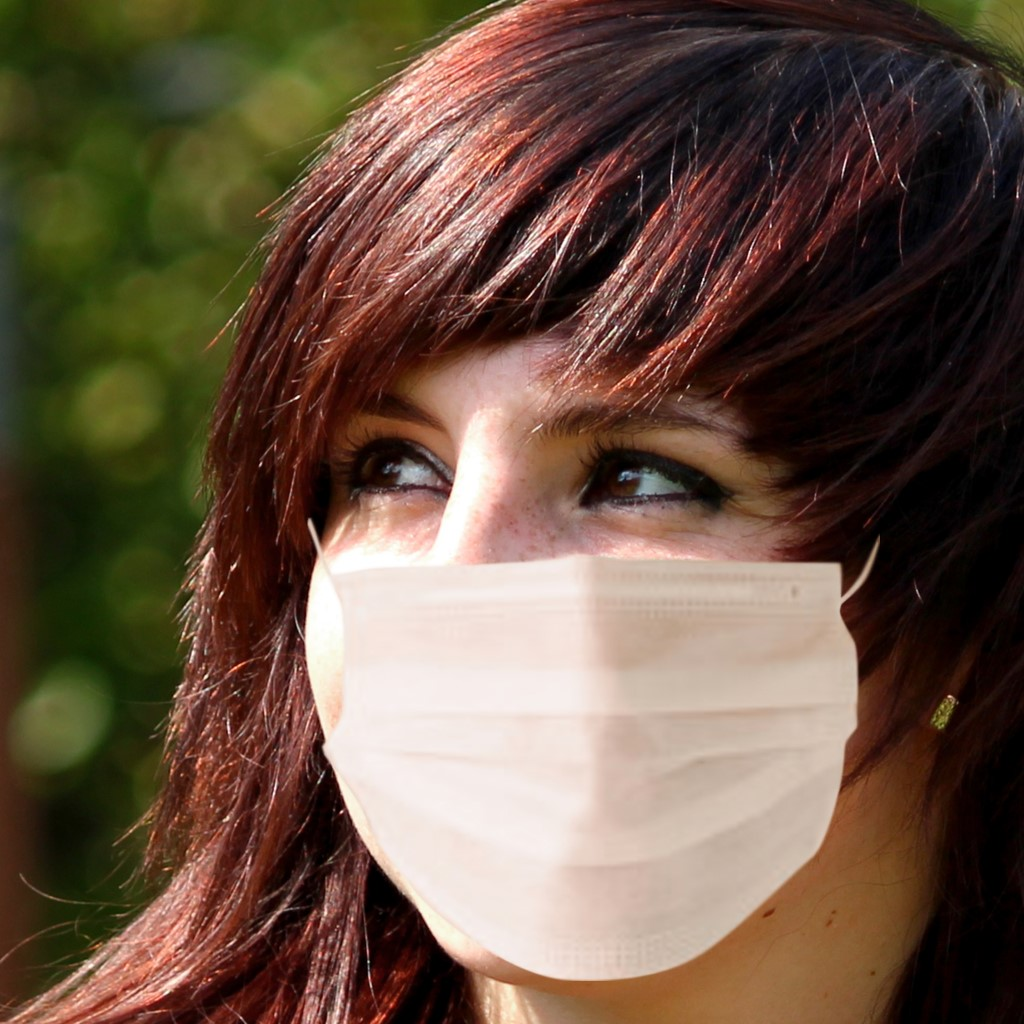con_mascara: (247, 205, 921, 1024)
